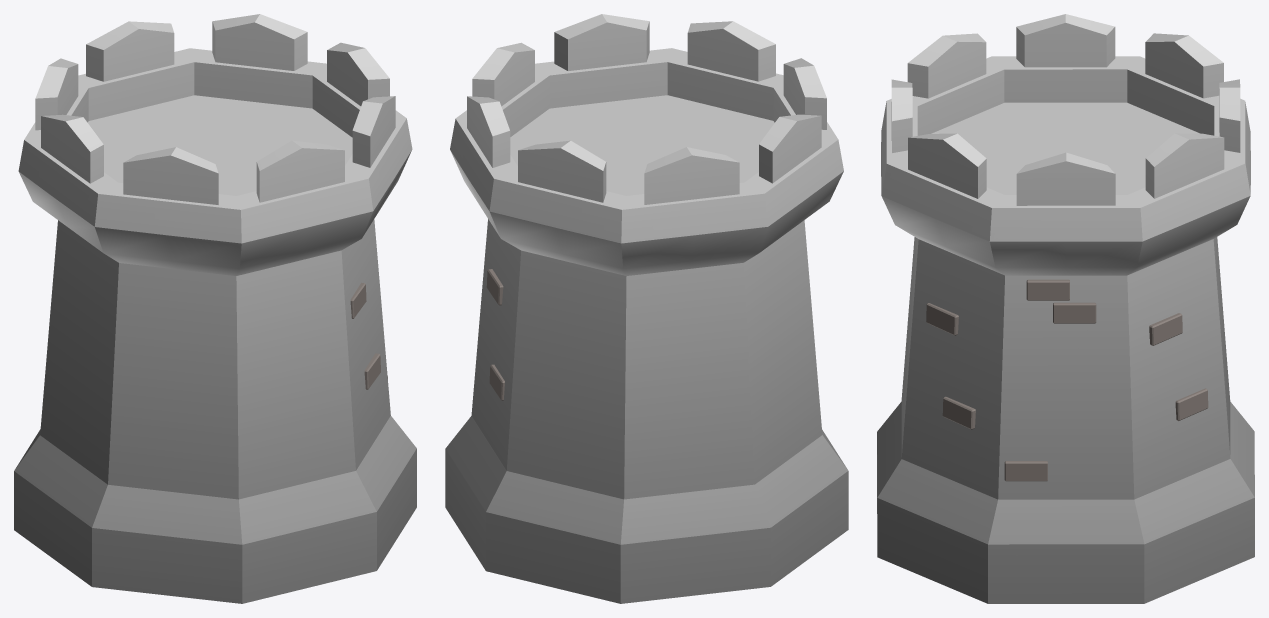
The model's file is [OBJ]Torre.fbx.
The picture shows the model from 3 angles, left to right: view 1: azimuth 30°, elevation 25°; view 2: azimuth 150°, elevation 25°; view 3: azimuth 270°, elevation 25°; orthographic projection.
Parts seen in each view (by area): view 1: [OBJ]Torre; view 2: [OBJ]Torre; view 3: [OBJ]Torre.
Part boxes in pixels (left/top/right/bottom): [OBJ]Torre: left=14, top=14, right=416, bottom=603; [OBJ]Torre: left=445, top=14, right=848, bottom=603; [OBJ]Torre: left=877, top=14, right=1254, bottom=603.
Size of the model in its own units: 169 by 216 by 169.
